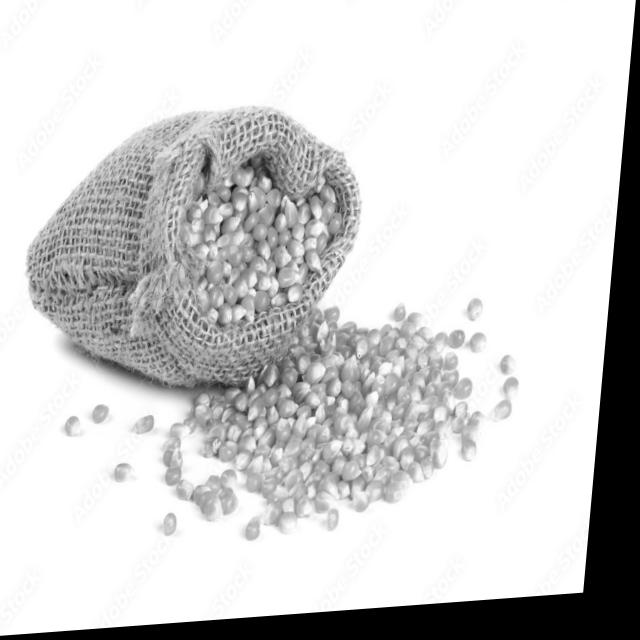sack: (22, 103, 374, 405)
